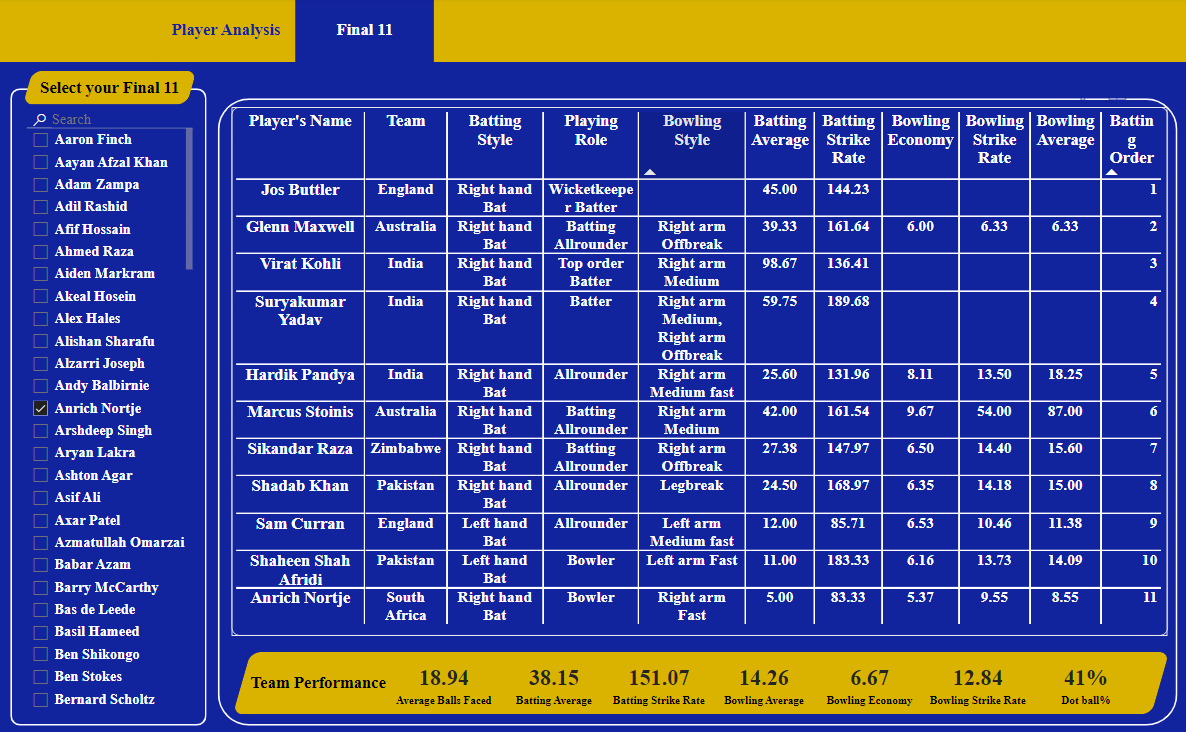

This screenshot's page, from the dashboard's own definition file:
{"tool":"powerbi","page":{"name":"New Final 11","canvas":[1435,900],"ordinal":5},"visuals":[{"type":"shape","box":[0,78.4,1435.3,821.7],"z":0},{"type":"shape","box":[263.8,122.1,1157.9,756.9],"z":1000},{"type":"shape","box":[13.6,110.1,236.7,768.9],"z":2000},{"type":"shape","box":[28.6,89,209.6,40.7],"z":3000},{"type":"actionButton","box":[190,1.5,167.4,76.9],"z":4000},{"type":"actionButton","box":[357.3,0,167.4,78],"z":5000},{"type":"pivotTable","fields":{"Values":["Min(dim_players.Team)","Min(dim_players.Batting Style)","Min(dim_players.Playing Role)","Min(dim_players.Bowling Style)","Measure.Batting Average","Measure.Strike Rate","Measure.Bowling Economy","Measure.Bowling Strike Rate","Measure.Bowling Average","Sum(dim_players.Batting Order)"],"Rows":["dim_players.Name"]},"box":[280.4,132.7,1129.2,637.7],"z":6000},{"type":"slicer","fields":{"Values":["dim_players.Name"]},"box":[28.6,132.7,209.6,732.7],"z":7000},{"type":"shape","box":[281.9,790,1129.2,75.4],"z":8000},{"type":"card","fields":{"Values":["Measure.Average Balls Faced"]},"box":[467.4,790,138.7,75.4],"z":9000},{"type":"card","fields":{"Values":["Measure.Batting Average"]},"box":[606.1,790,126.6,75.4],"z":10000},{"type":"card","fields":{"Values":["Measure.Batting Strike Rate"]},"box":[732.7,790,126.6,75.4],"z":11000},{"type":"card","fields":{"Values":["Measure.Bowling Average"]},"box":[859.4,790,126.6,75.4],"z":12000},{"type":"card","fields":{"Values":["Measure.Bowling Economy"]},"box":[986,790,128.2,75.4],"z":13000},{"type":"card","fields":{"Values":["Measure.Bowling Strike Rate"]},"box":[1114.2,790,132.7,75.4],"z":14000},{"type":"card","fields":{"Values":["Measure.Dot ball%"]},"box":[1246.8,790,128.2,75.4],"z":15000}]}

Visuals, with their boxes in screenshot pixels (x1, y1, x2, y2), scaled from the page's 1435x900 canvas onto the 1186x732 screenshot:
shape: select_region(0, 64, 1185, 731)
shape: select_region(218, 99, 1175, 715)
shape: select_region(11, 90, 207, 715)
shape: select_region(24, 72, 197, 105)
actionButton: select_region(157, 1, 295, 64)
actionButton: select_region(295, 0, 434, 63)
pivotTable - Min(dim_players.Team) x Min(dim_players.Batting Style): select_region(232, 108, 1165, 627)
slicer - dim_players.Name: select_region(24, 108, 197, 704)
shape: select_region(233, 643, 1166, 704)
card - Measure.Average Balls Faced: select_region(386, 643, 501, 704)
card - Measure.Batting Average: select_region(501, 643, 606, 704)
card - Measure.Batting Strike Rate: select_region(606, 643, 710, 704)
card - Measure.Bowling Average: select_region(710, 643, 815, 704)
card - Measure.Bowling Economy: select_region(815, 643, 921, 704)
card - Measure.Bowling Strike Rate: select_region(921, 643, 1031, 704)
card - Measure.Dot ball%: select_region(1030, 643, 1136, 704)
